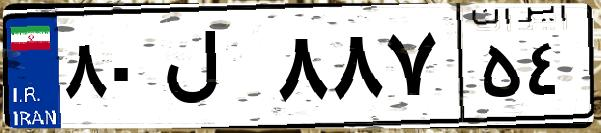0: (110, 28, 158, 98)
4: (525, 38, 570, 115)
5: (475, 38, 525, 113)
7: (385, 28, 445, 110)
8: (270, 28, 330, 110), (330, 28, 385, 110), (57, 26, 110, 100)
ل: (158, 20, 270, 120)
